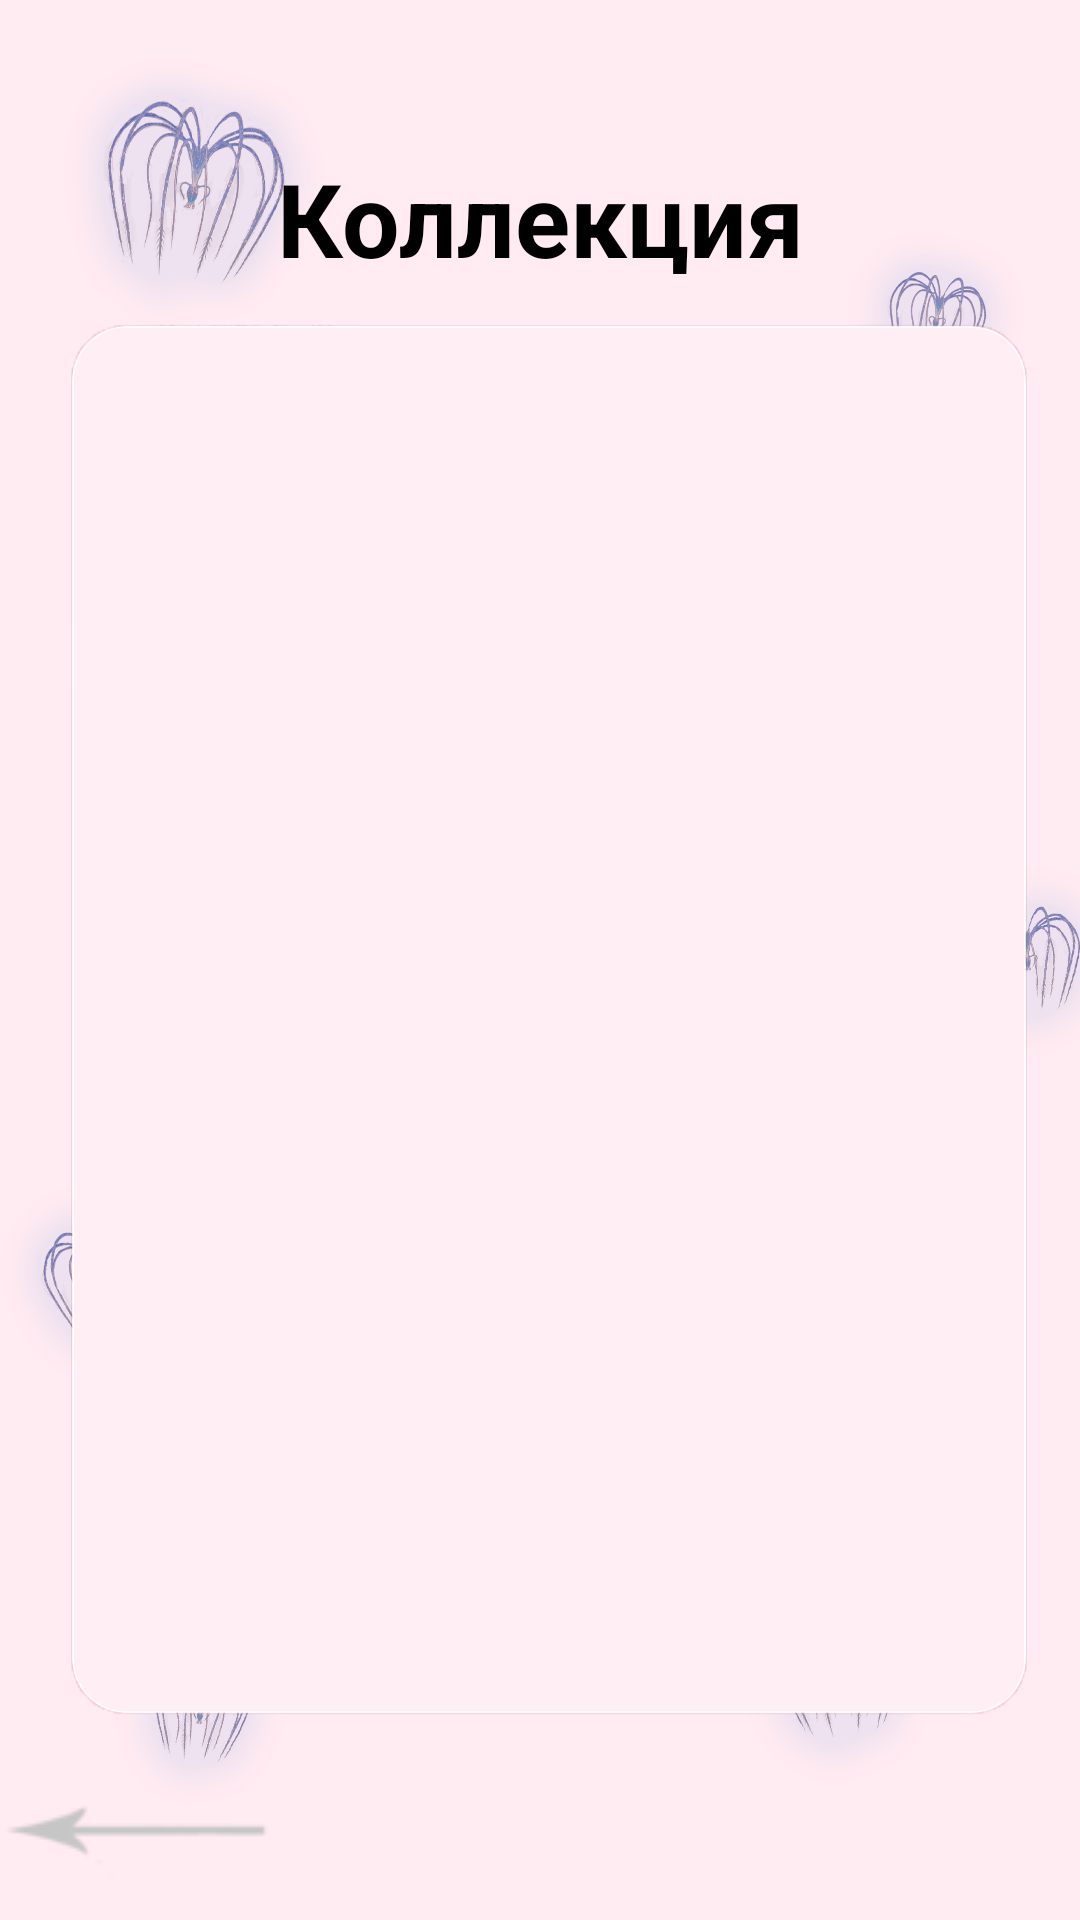

Point at icon controls on the screen. Image size 1080px×1920px, points as [x,y].
back: [139,1830]
